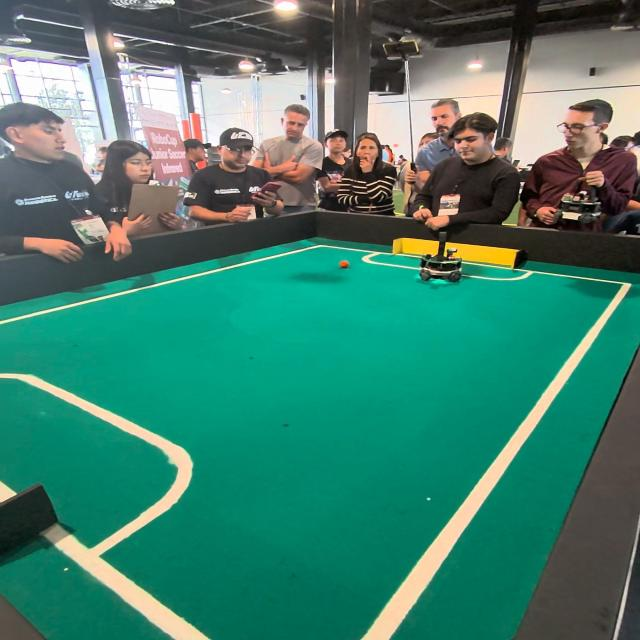Robot: (416, 230, 468, 288)
pelota: (339, 262, 353, 274)
